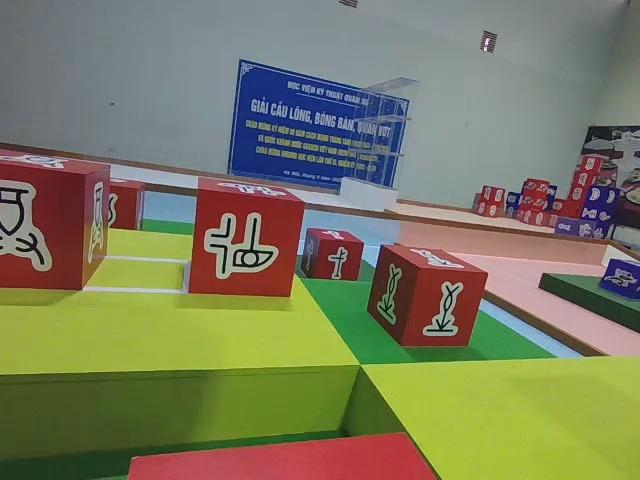R2 Real: (0, 147, 111, 292), (188, 176, 304, 300), (368, 243, 488, 347), (303, 229, 364, 282)
